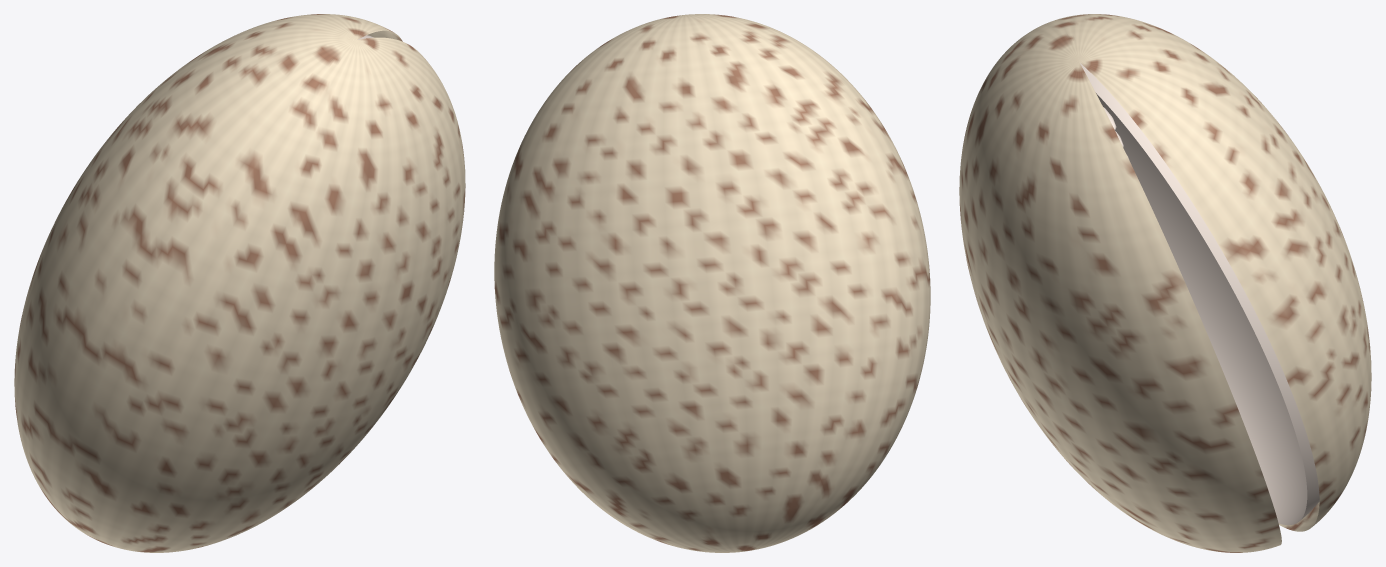
The model's file is cowrie.glb.
The picture shows the model from 3 angles, left to right: view 1: azimuth 30°, elevation 25°; view 2: azimuth 150°, elevation 25°; view 3: azimuth 270°, elevation 25°; orthographic projection. The views are drawn at different scales.
Parts seen in each view (by area): view 1: cowrie; view 2: cowrie; view 3: cowrie.
Boxes of the visible parts, <box> form: cowrie: <box>14,14,465,552</box>; cowrie: <box>494,14,930,552</box>; cowrie: <box>959,14,1371,552</box>.
Size of the model in its own units: 1.61 by 1.9 by 1.33.
